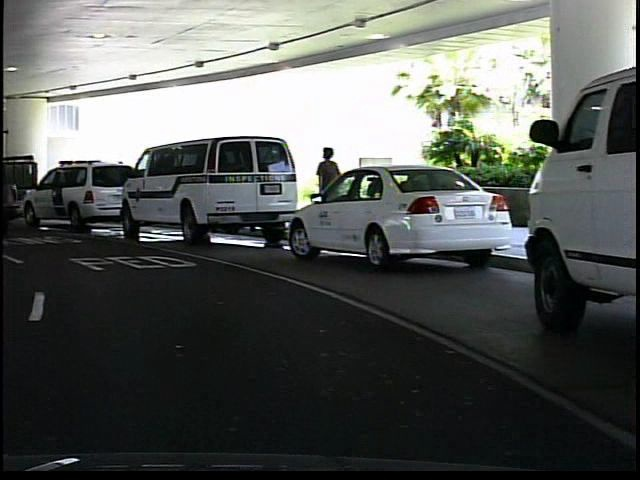person: (309, 143, 344, 234)
